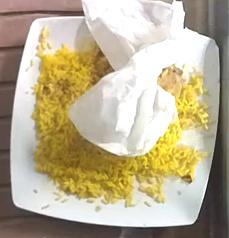rice: (32, 27, 117, 201), (136, 64, 208, 200)
